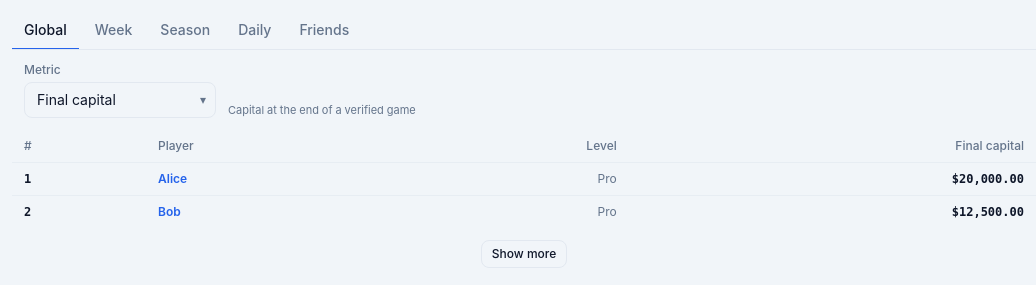
Test: <OnlineLeaderboard /> › loads pages with a cursor and switches period tabs
This screenshot has width=1036, height=285.
Expected: the button "Alice" is shown, [158, 171, 187, 187]
Expected: the text "$20,000.00" is shown, [629, 162, 1035, 196]
Click the button "Show more": (524, 254) [481, 240, 567, 268]
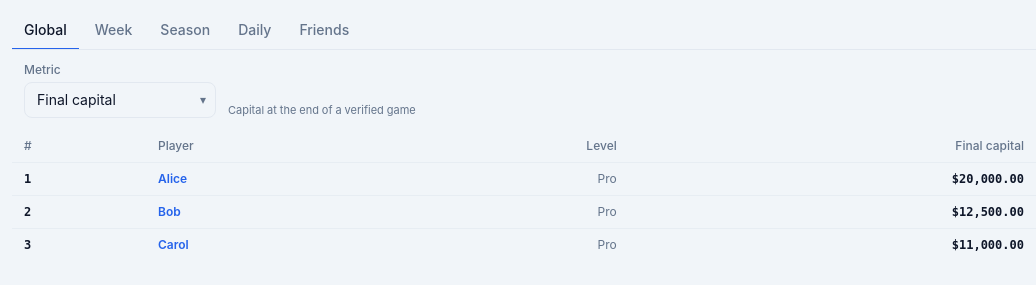
Expected: the button "Carol" is shown, [158, 237, 189, 253]
Expected: the button "Show more" is gone
Click the tab "Week": (114, 31) [83, 12, 144, 50]
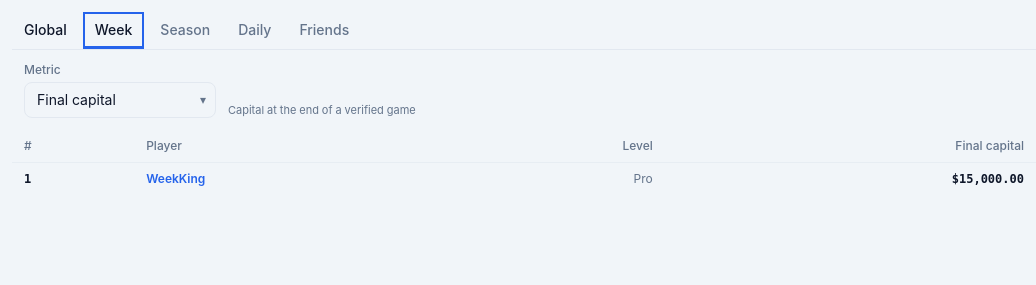
Expected: the button "WeekKing" is shown, [146, 171, 205, 187]
